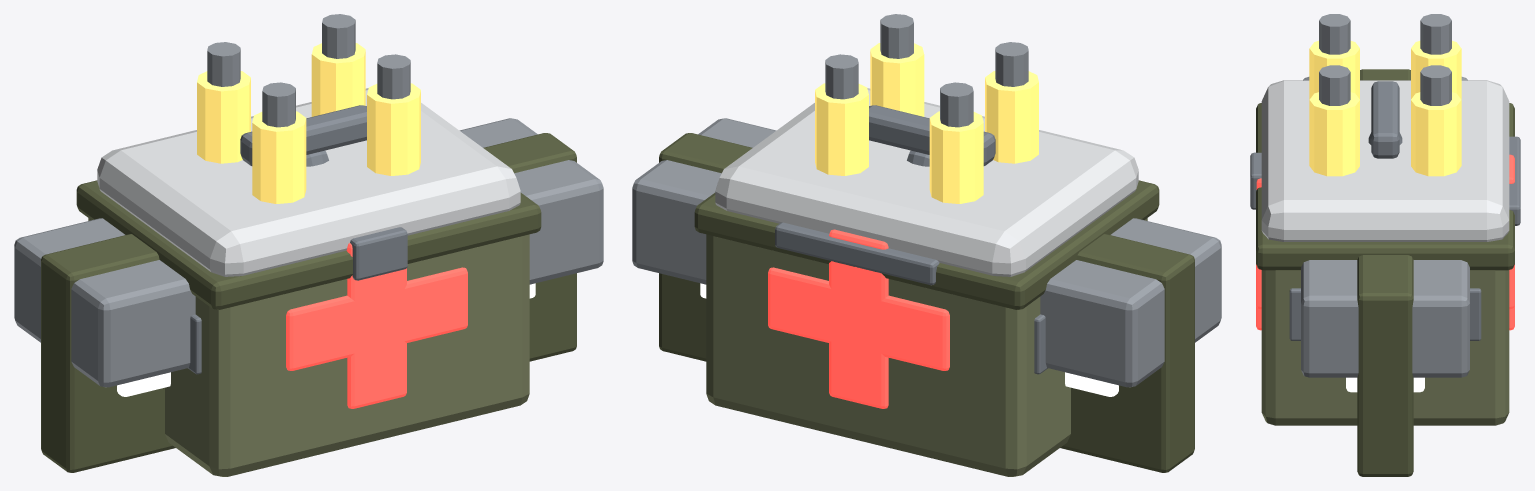
The model's file is props.glb.
The picture shows the model from 3 angles, left to right: view 1: azimuth 30°, elevation 25°; view 2: azimuth 150°, elevation 25°; view 3: azimuth 270°, elevation 25°; orthographic projection. The views are drawn at different scales.
Parts seen in each view (by area): view 1: crate, lid, housing, band1, lidrim, crossH, crossV, band2, shell0, shell1, shell2, shell3 (+8 smaller); view 2: crate, lid, housing, band1, crossH2, lidrim, crossV2, band2, shell2, shell3, hinge, shell0 (+8 smaller); view 3: lid, crate, housing, band2, lidrim, shell1, shell3, handle, shell0, shell2, fin2, tip0 (+8 smaller).
Part boxes in pixels (box(x1,y1,x2,y2)): crate: box(88, 218, 529, 476); lid: box(97, 88, 520, 276); housing: box(14, 118, 603, 387); band1: box(41, 234, 175, 472); lidrim: box(76, 180, 541, 309); crossH: box(286, 267, 467, 370); crossV: box(346, 243, 406, 408); band2: box(483, 133, 576, 361); shell0: box(252, 111, 306, 203); shell1: box(367, 83, 420, 175); shell2: box(197, 71, 250, 163); shell3: box(311, 43, 365, 116); crate: box(706, 218, 1147, 476); lid: box(715, 88, 1138, 276); housing: box(632, 118, 1221, 387); band1: box(1060, 234, 1194, 472); crossH2: box(768, 267, 949, 370); lidrim: box(694, 180, 1159, 309); crossV2: box(829, 229, 888, 408); band2: box(659, 133, 752, 361); shell2: box(929, 111, 983, 203); shell3: box(815, 83, 868, 175); hinge: box(775, 222, 939, 285); shell0: box(985, 71, 1038, 163); lid: box(1261, 80, 1509, 241); crate: box(1261, 270, 1509, 425); housing: box(1301, 77, 1469, 377); band2: box(1357, 255, 1413, 476); lidrim: box(1256, 103, 1514, 270); shell1: box(1309, 92, 1359, 176); shell3: box(1411, 92, 1461, 176); handle: box(1371, 81, 1399, 158); shell0: box(1309, 40, 1359, 99); shell2: box(1411, 40, 1461, 99); fin2: box(1289, 288, 1481, 340); tip0: box(1319, 14, 1350, 54).
Bounding box in the file's own units: 0.96 × 0.625 × 0.48.
